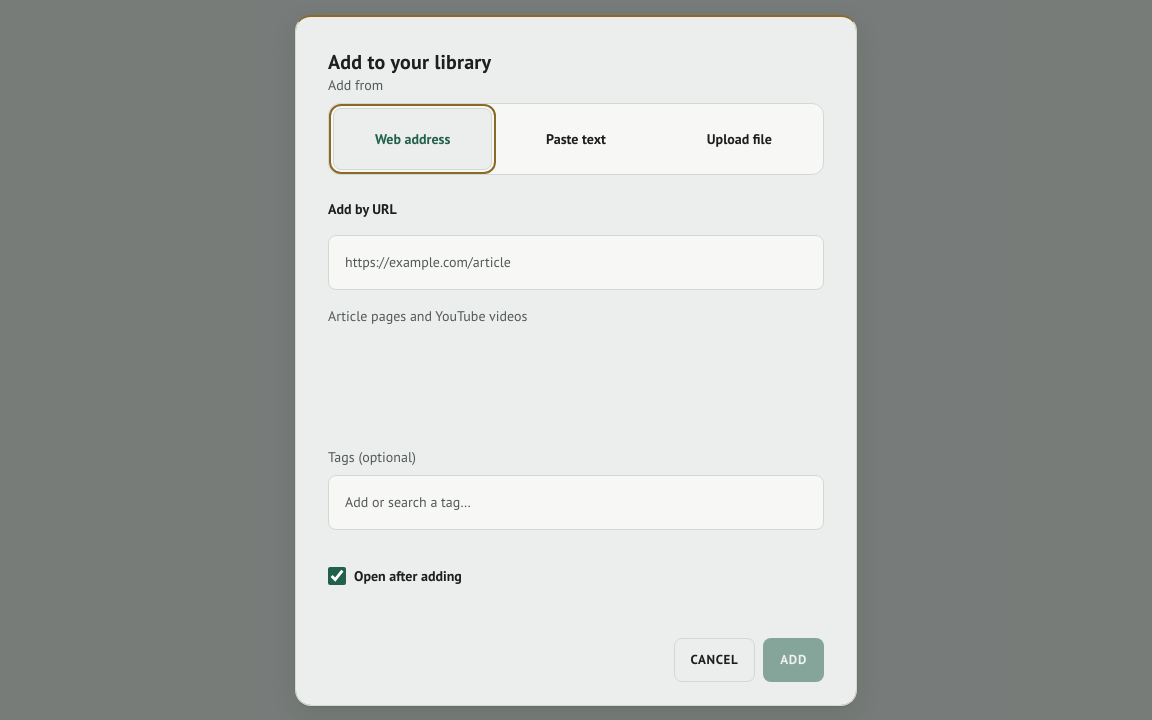
AddDialog (16-02 Task 2) › typed URL text survives switching to Paste text and back
Type "https://example.com/keep-me" into the field labelled "Add by URL". click: coordinates (576, 263)
box: [328,235,824,290]
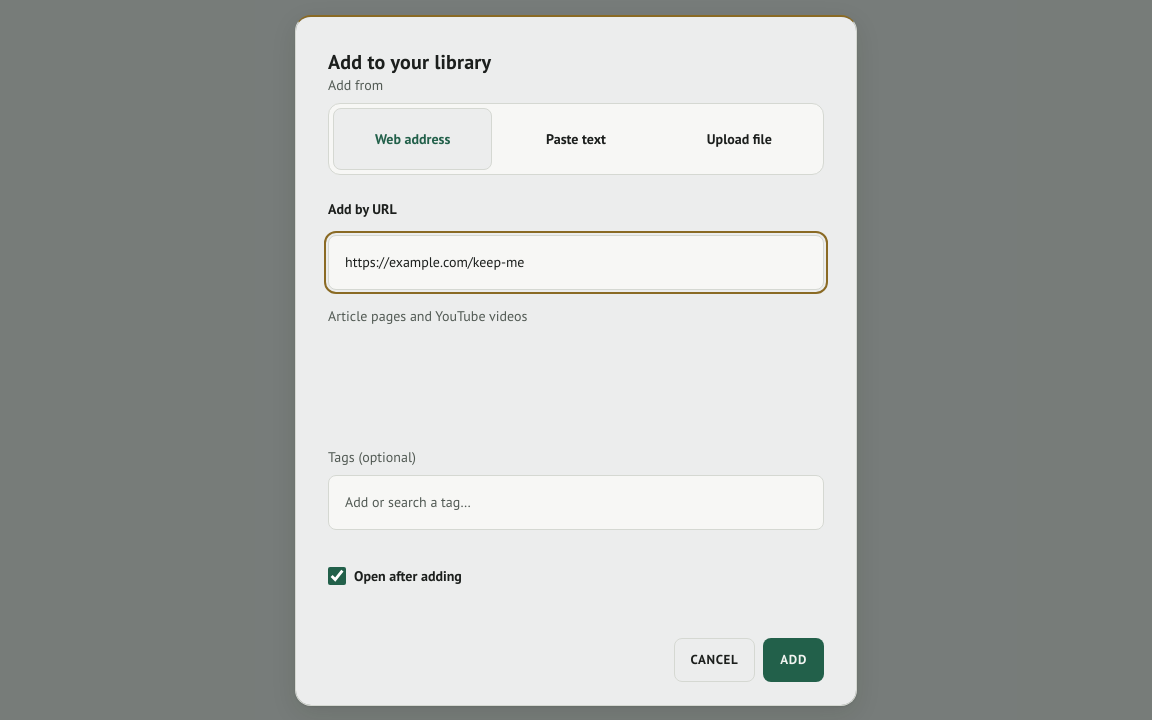
Click the radio button labelled "Paste text". click: coordinates (576, 139)
box: [546,130,606,148]
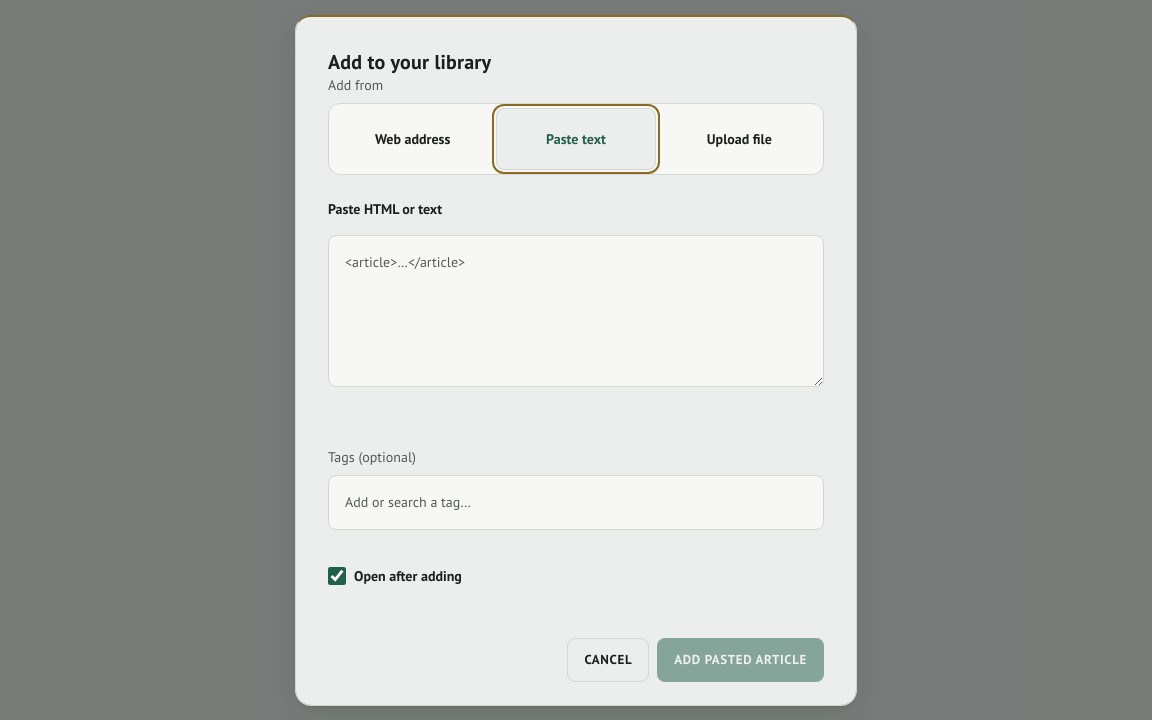
expect the label "Add by URL" is gone: met
Click the radio button labelled "Web address". click: coordinates (413, 139)
box: [375,130,450,148]
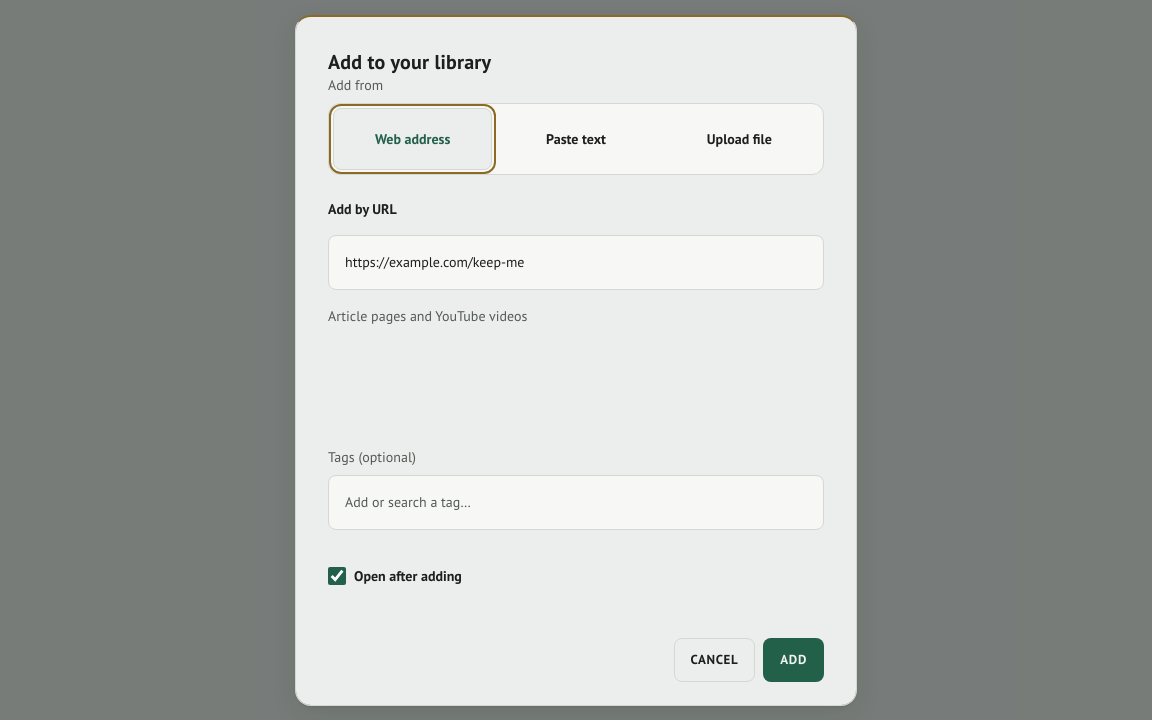
expect the field labelled "Add by URL" holds "https://example.com/keep-me": met, box [328,235,824,290]
